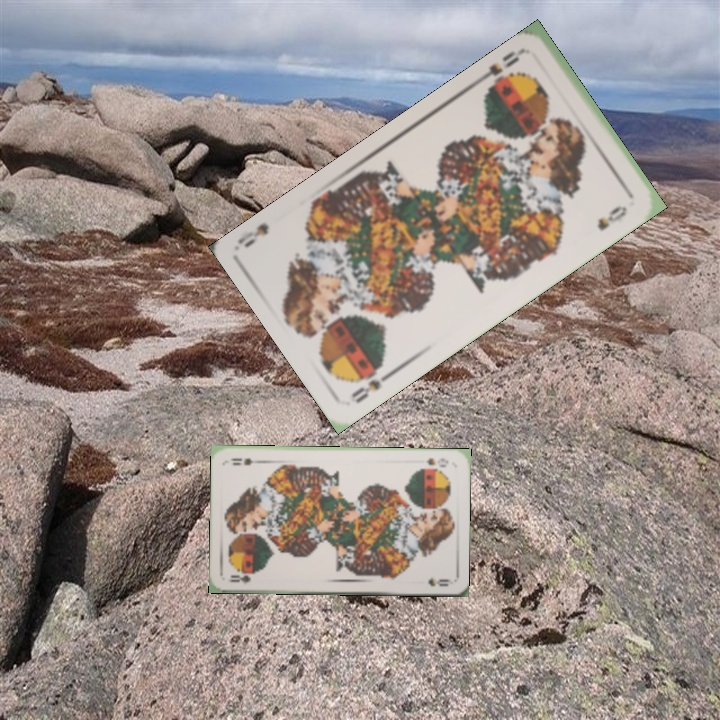SO: (475, 44, 530, 94), (347, 366, 397, 406), (224, 569, 260, 587), (422, 454, 451, 470)
